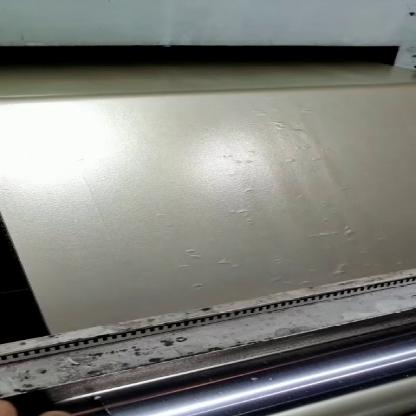Blisters: (221, 150, 259, 170), (303, 226, 359, 239), (266, 118, 299, 135), (217, 202, 253, 216), (331, 257, 355, 274), (188, 246, 204, 266)
